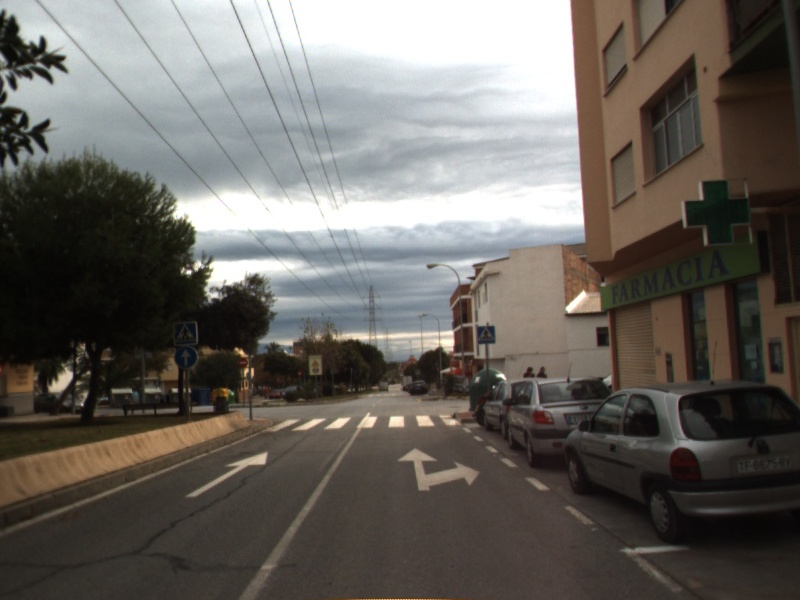STRAIGHT: (183, 449, 270, 499)
STRAIGHT_RIGHT: (395, 446, 482, 493)
